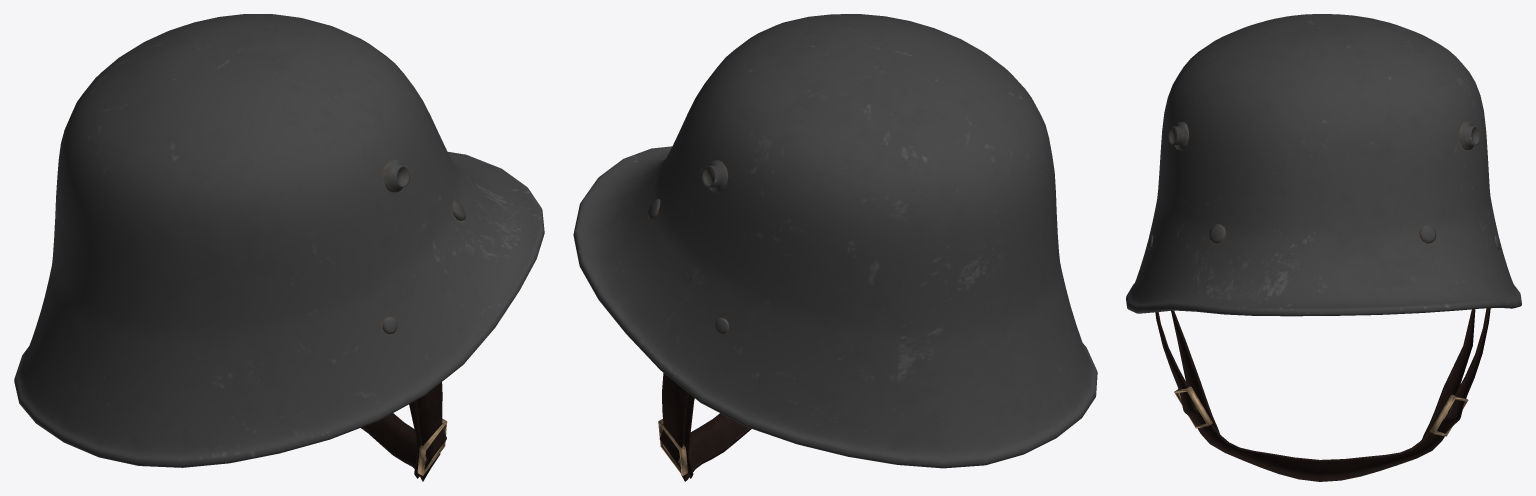
File: capacete_stahlhelm.glb
The picture shows the model from 3 angles, left to right: view 1: azimuth 30°, elevation 25°; view 2: azimuth 150°, elevation 25°; view 3: azimuth 270°, elevation 25°; orthographic projection. The views are drawn at different scales.
Visible parts, largest first — view 1: Object_4, Object_3; view 2: Object_4, Object_3; view 3: Object_4, Object_3, Object_2.
Part boxes in pixels (<box>): Object_4: <box>14,14,544,467</box>; Object_3: <box>361,382,446,481</box>; Object_4: <box>573,14,1097,468</box>; Object_3: <box>660,373,751,481</box>; Object_4: <box>1126,14,1521,316</box>; Object_3: <box>1155,308,1490,481</box>; Object_2: <box>1174,386,1468,436</box>.
Bounding box in the file's own units: 0.3 × 0.2745 × 0.2518.
Materials: 3 (3 with a texture image).
